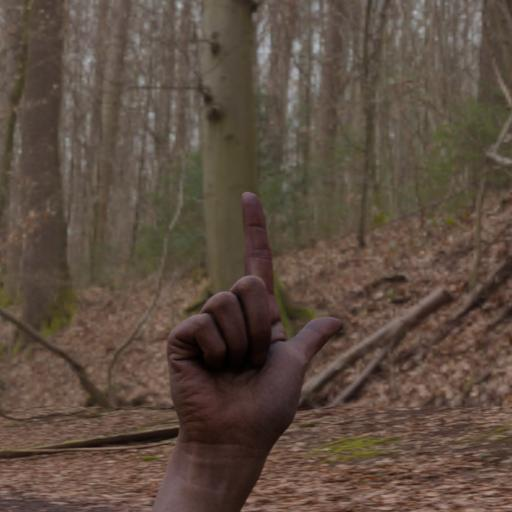L: (161, 181, 354, 512)
